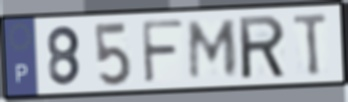5: (92, 20, 135, 87)
8: (45, 23, 84, 88)
F: (139, 18, 186, 86)
M: (187, 17, 239, 81)
R: (236, 13, 288, 82)
T: (291, 10, 330, 78)
